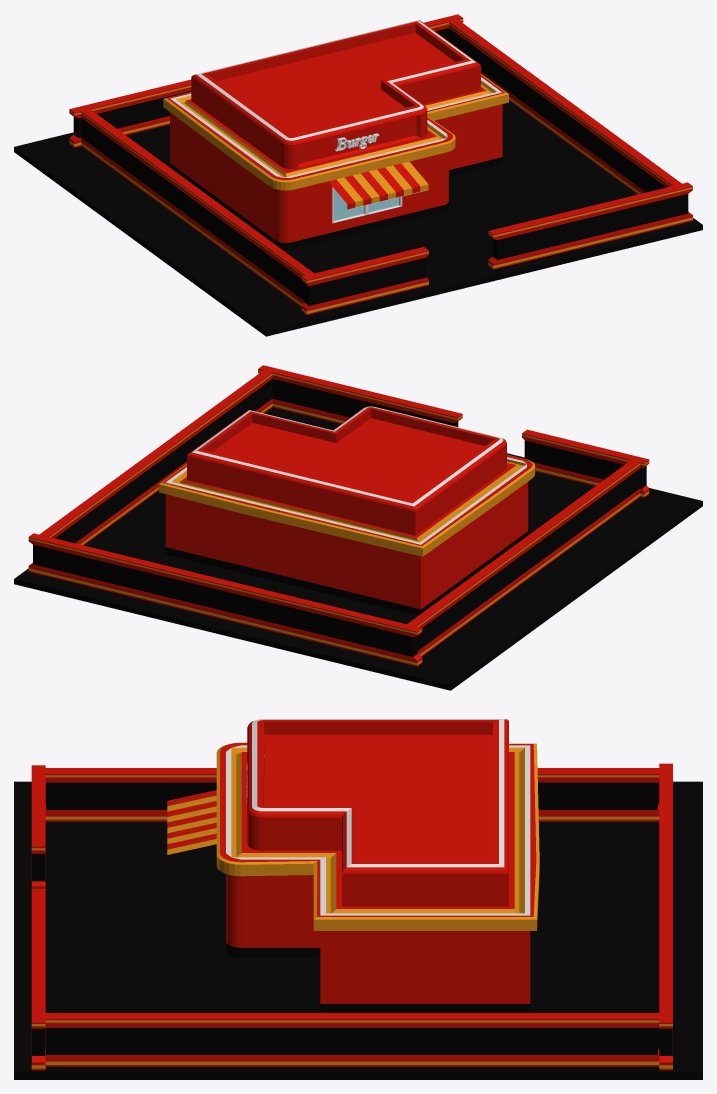
File: fastFood.fbx
The picture shows the model from 3 angles, top to bottom: view 1: azimuth 30°, elevation 25°; view 2: azimuth 150°, elevation 25°; view 3: azimuth 270°, elevation 25°; orthographic projection. The views are drawn at different scales.
Visible parts, largest first — view 1: Cube, Plane.001, Cube.005, Cube.002, Cube.001, Cube.006, Cube.004, Plane; view 2: Cube, Plane.001, Cube.005, Cube.002, Cube.004, Cube.003, Cube.001, Cube.006; view 3: Cube, Plane.001, Cube.002, Cube.005, Plane, Cube.001, Cube.003, Cube.006, Cube.004.
Part boxes in pixels (bbox=[...]): Cube: bbox=[163, 20, 508, 250]; Plane.001: bbox=[14, 100, 702, 336]; Cube.005: bbox=[81, 109, 318, 306]; Cube.002: bbox=[444, 16, 682, 194]; Cube.001: bbox=[488, 182, 692, 269]; Cube.006: bbox=[301, 247, 428, 314]; Cube.004: bbox=[69, 79, 191, 147]; Plane: bbox=[328, 161, 428, 209]; Cube: bbox=[159, 406, 535, 615]; Plane.001: bbox=[14, 407, 702, 690]; Cube.005: bbox=[403, 457, 642, 656]; Cube.002: bbox=[39, 370, 272, 545]; Cube.004: bbox=[218, 581, 422, 666]; Cube.003: bbox=[28, 533, 232, 620]; Cube.001: bbox=[258, 365, 462, 426]; Cube.006: bbox=[522, 429, 649, 497]; Cube: bbox=[216, 719, 539, 1012]; Plane.001: bbox=[14, 781, 702, 1079]; Cube.002: bbox=[38, 1013, 671, 1066]; Cube.005: bbox=[32, 768, 671, 821]; Plane: bbox=[167, 790, 216, 854]; Cube.001: bbox=[31, 889, 45, 1070]; Cube.003: bbox=[659, 889, 672, 1070]; Cube.006: bbox=[31, 765, 45, 889]; Cube.004: bbox=[659, 763, 672, 889].
Size of the model in its own units: 2545 by 588 by 2545.
